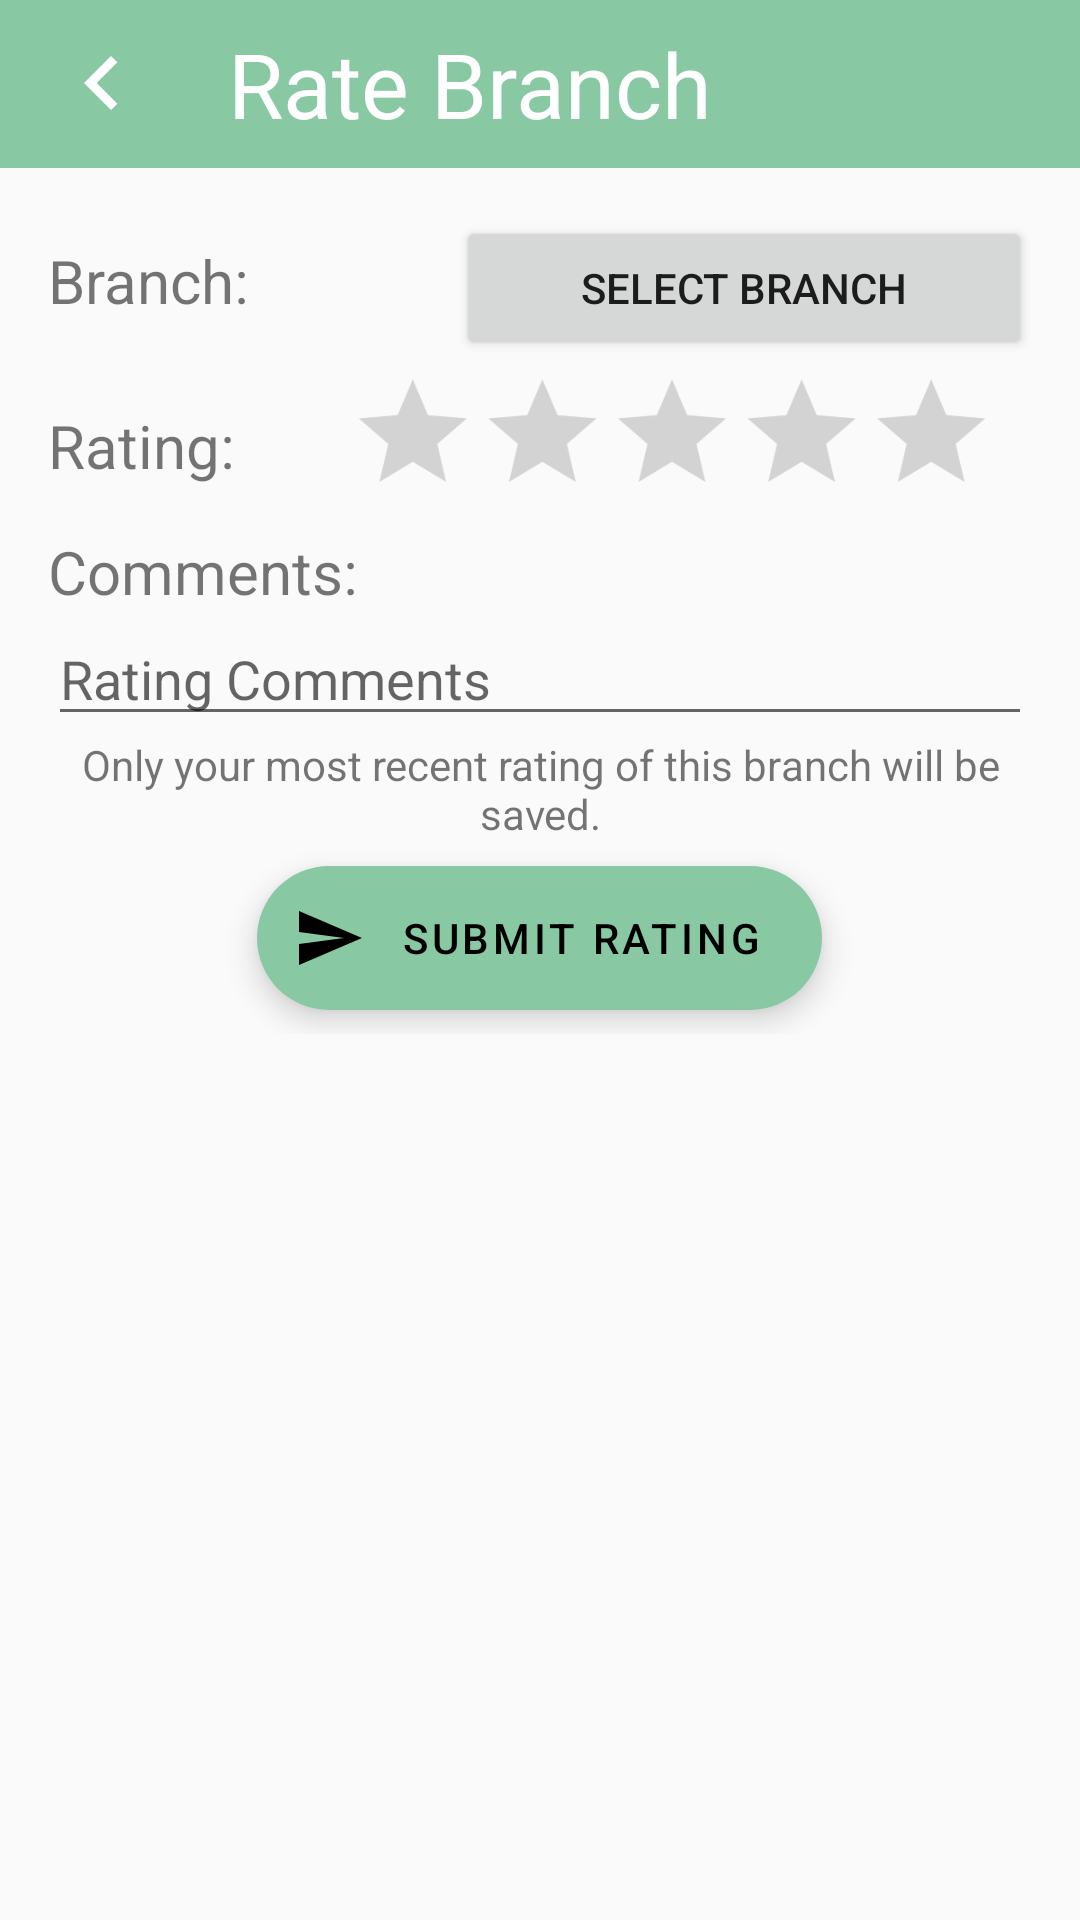

Where to tap for icons on this 1080*1920 app screen, as [x,y]:
arrow left: [100,83]
